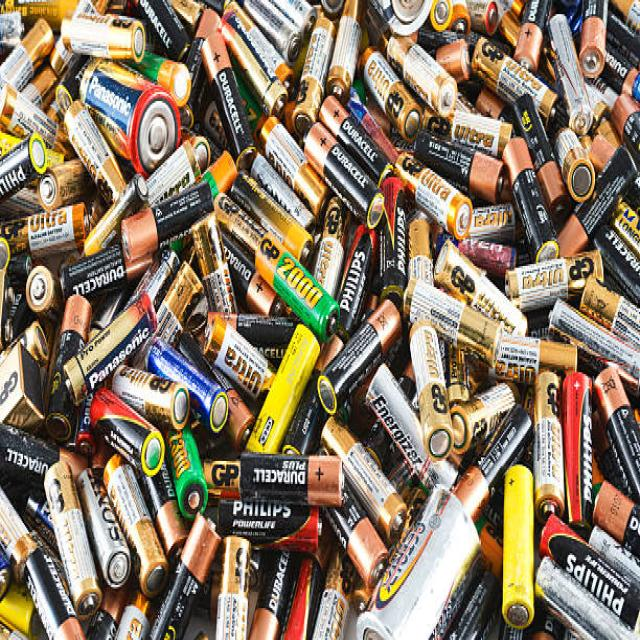metal: (18, 28, 618, 612)
